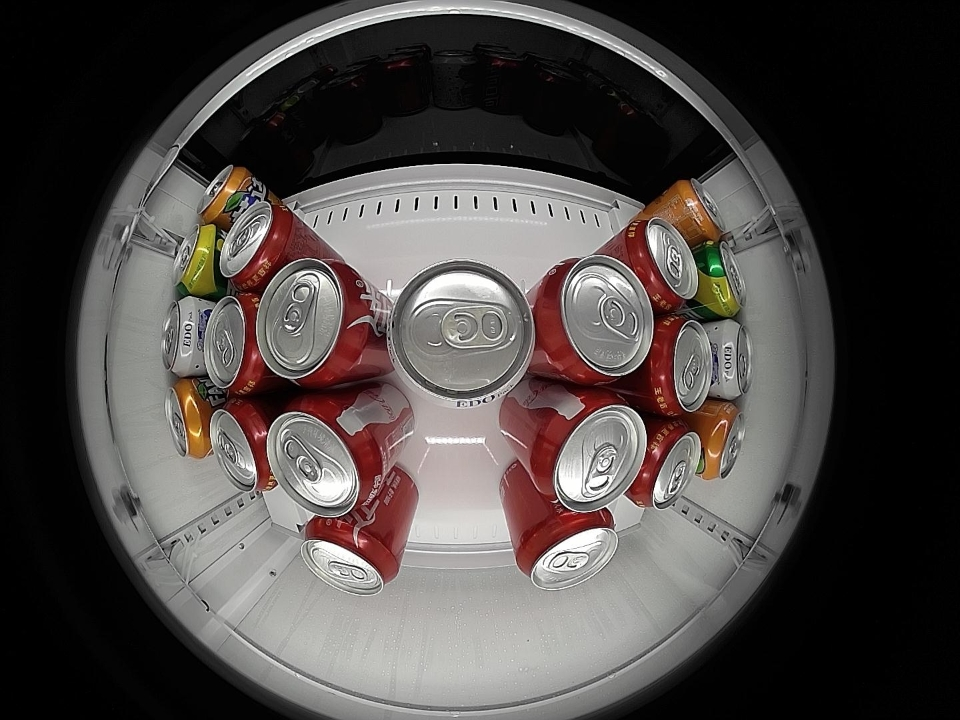fenda: (699, 402, 746, 480), (165, 380, 211, 459), (196, 164, 251, 224), (672, 178, 724, 241)
kele: (536, 255, 655, 385), (255, 257, 371, 388), (266, 395, 382, 517), (532, 391, 647, 513), (517, 511, 618, 591), (301, 521, 397, 596)
rusuanjunqishui: (387, 260, 536, 407), (161, 297, 208, 377), (709, 320, 753, 400)
wanglaoji-c: (645, 315, 714, 415), (623, 218, 698, 310), (218, 202, 296, 290), (203, 293, 265, 394), (634, 420, 702, 510), (209, 398, 273, 491)
xuebi2: (697, 241, 747, 318), (170, 224, 221, 295)
